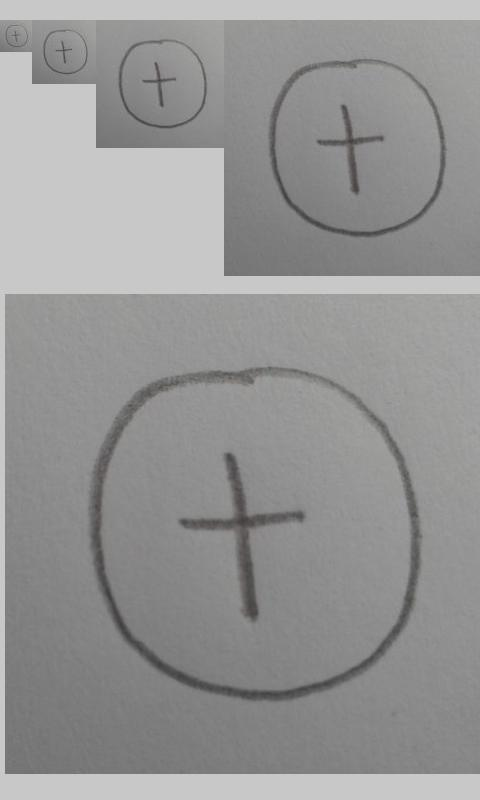button: (89, 366, 420, 701), (269, 58, 446, 238), (118, 39, 208, 129), (43, 29, 88, 75), (5, 24, 28, 48)
